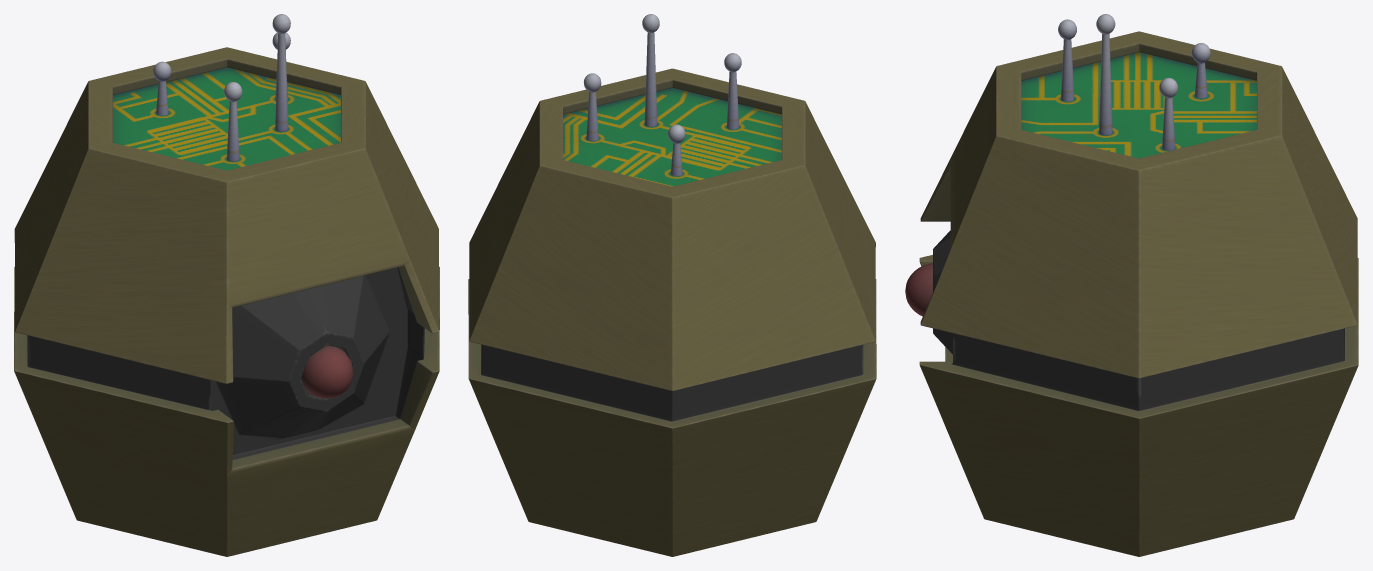
File: mechanism00.fbx
3 views of the same model, side by side, from view 1: azimuth 30°, elevation 25°; view 2: azimuth 150°, elevation 25°; view 3: azimuth 270°, elevation 25° (orthographic). The views are drawn at different scales.
Parts seen in each view (by area): view 1: mechanism; view 2: mechanism; view 3: mechanism.
Boxes of the visible parts, x1=… form: mechanism: x1=14, y1=14, x2=439, y2=556; mechanism: x1=468, y1=14, x2=876, y2=556; mechanism: x1=905, y1=14, x2=1358, y2=556.
Size of the model in its own units: 96.47 by 102 by 86.35.
Materials: 1 (1 with a texture image).
